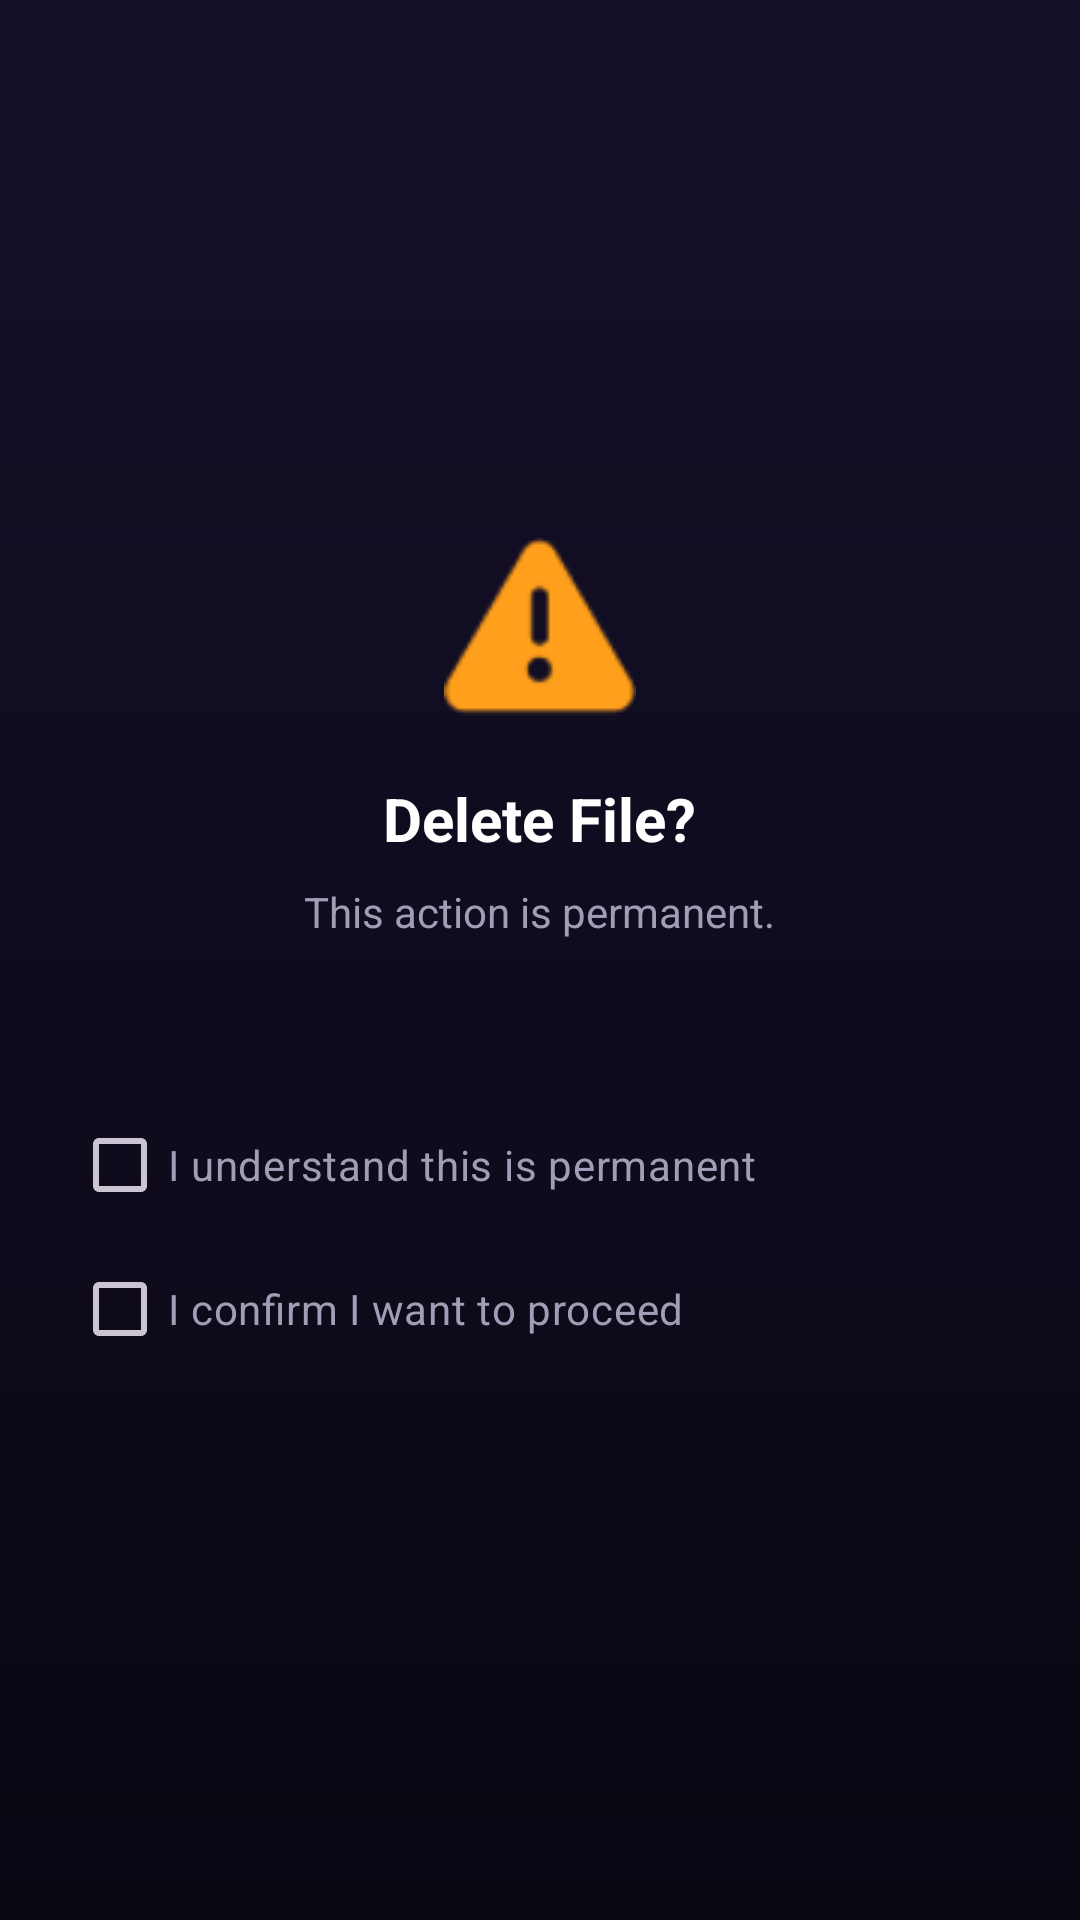

Screen size 1080w x 1920h. Icon name, then its center in pixels as (x,y):
alert: (540,625)
